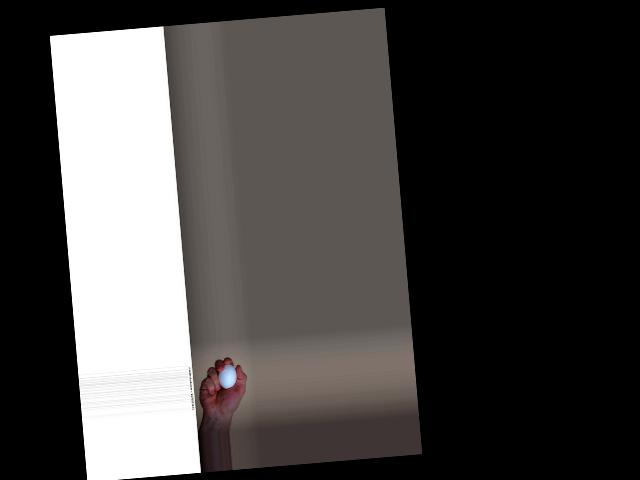egg: (217, 364, 237, 390)
